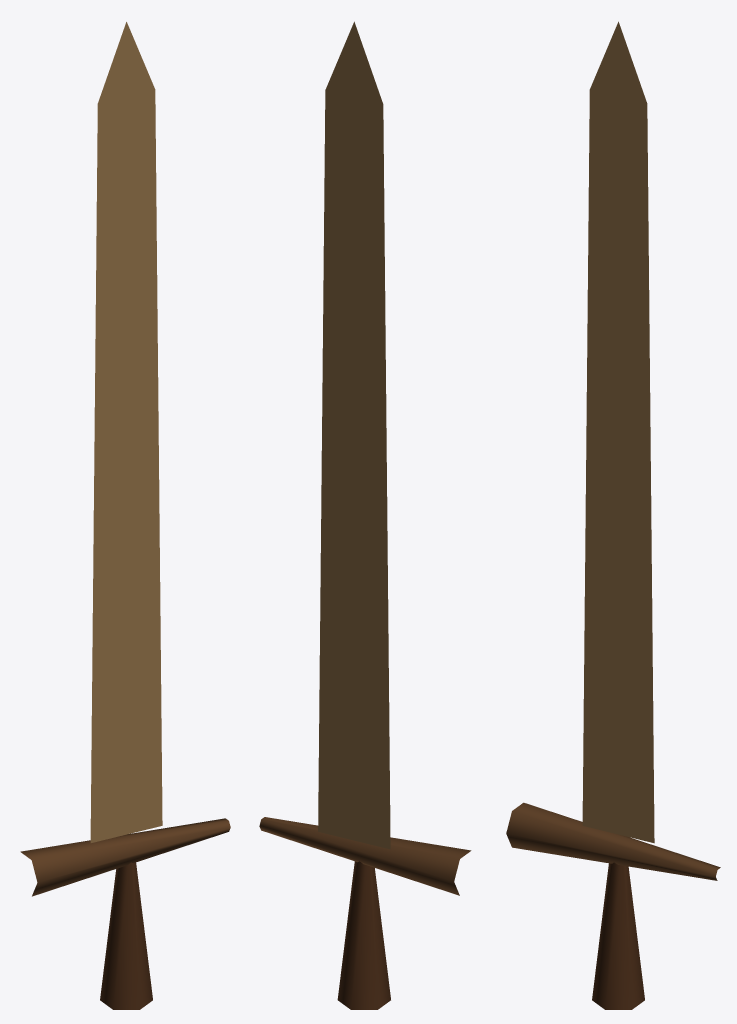
The model's file is toy_sword.glb.
3 renders of one model, left to right at view 1: azimuth 30°, elevation 25°; view 2: azimuth 150°, elevation 25°; view 3: azimuth 330°, elevation 25°, orthographic.
Parts seen in each view (by area): view 1: toy_sword; view 2: toy_sword; view 3: toy_sword.
Boxes of the visible parts, <box> form: toy_sword: <box>20,22,230,1009</box>; toy_sword: <box>259,21,471,1009</box>; toy_sword: <box>506,21,720,1009</box>.
Bounding box in the file's own units: 0.14 × 0.65 × 0.032.
